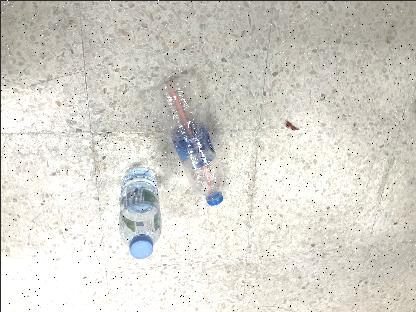Plastic Bottle: (158, 74, 224, 206), (117, 164, 161, 258)
